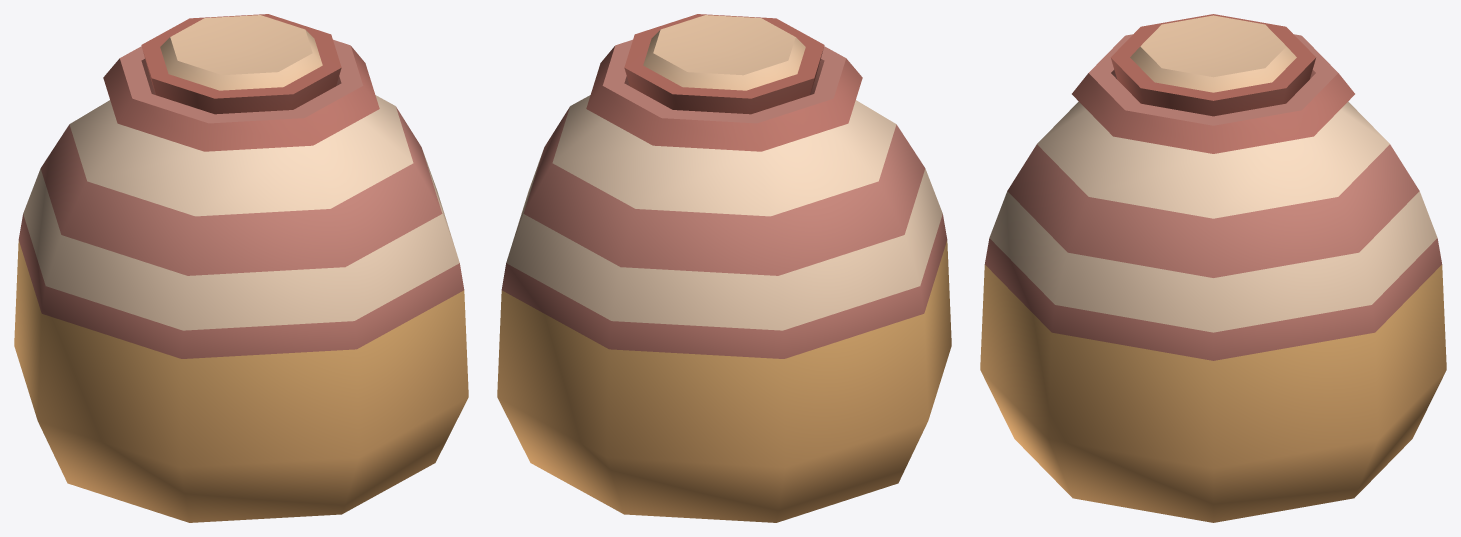
Rendered from UrnL1.fbx.
3 views of the same model, side by side, from view 1: azimuth 30°, elevation 25°; view 2: azimuth 150°, elevation 25°; view 3: azimuth 270°, elevation 25° (orthographic).
Parts seen in each view (by area): view 1: UrnL1; view 2: UrnL1; view 3: UrnL1.
Part boxes in pixels (box(x1,y1,x2,y2)): UrnL1: box(14, 14, 468, 522); UrnL1: box(497, 14, 951, 522); UrnL1: box(980, 14, 1446, 522).
Size of the model in its own units: 100 by 99.57 by 100.
